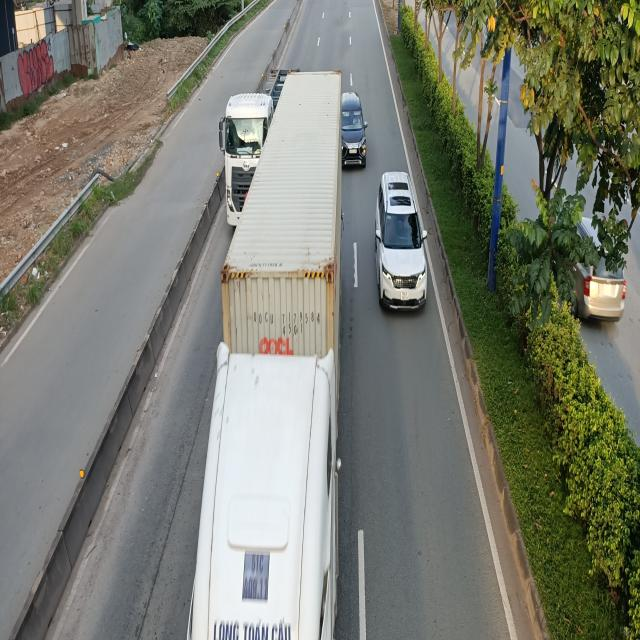car: (373, 168, 426, 310), (339, 92, 368, 167)
container: (194, 61, 348, 634), (218, 67, 299, 228)
